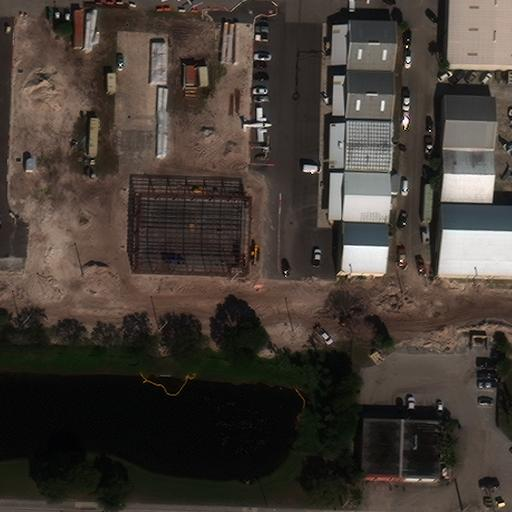Small Civil Transport: (242, 107, 271, 141), (342, 0, 366, 13)
